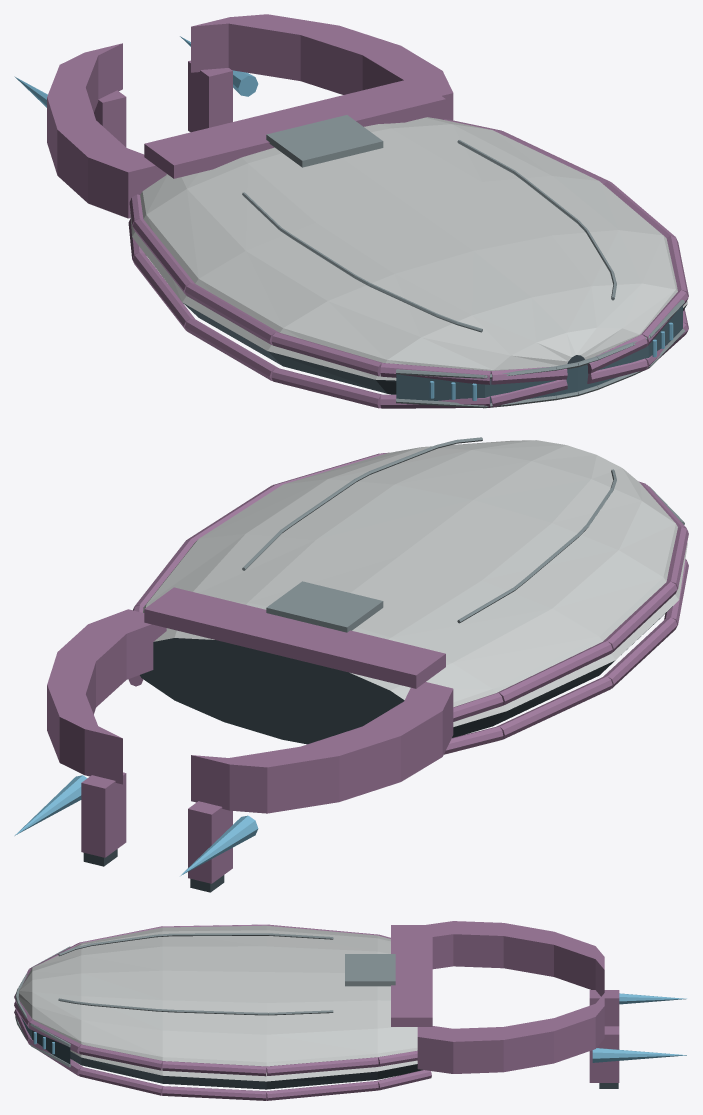
File: rayfam_purple_flight.glb
3 views of the same model, one above another, from view 1: azimuth 30°, elevation 25°; view 2: azimuth 150°, elevation 25°; view 3: azimuth 270°, elevation 25° (orthographic). The views are drawn at different scales.
Visible parts, largest first — view 1: material_0, material_2, material_3, material_4, material_1, material_5; view 2: material_0, material_2, material_1, material_3, material_5; view 3: material_0, material_2, material_3, material_1, material_5, material_4.
Boxes of the visible parts, x1,y1,x2,y2 form: material_0: (130, 117, 687, 380); material_2: (47, 14, 688, 408); material_3: (242, 115, 684, 408); material_4: (396, 305, 682, 403); material_1: (183, 303, 687, 394); material_5: (14, 36, 673, 400); material_0: (143, 440, 687, 726); material_2: (47, 452, 688, 883); material_1: (83, 606, 672, 892); material_3: (242, 437, 684, 632); material_5: (14, 775, 258, 875); material_0: (19, 925, 417, 1081); material_2: (14, 921, 619, 1100); material_3: (15, 933, 395, 1067); material_1: (70, 1051, 618, 1089); material_5: (33, 993, 686, 1062); material_4: (21, 1017, 70, 1063).
Size of the model in its own units: 17.71 by 5.57 by 34.17.
